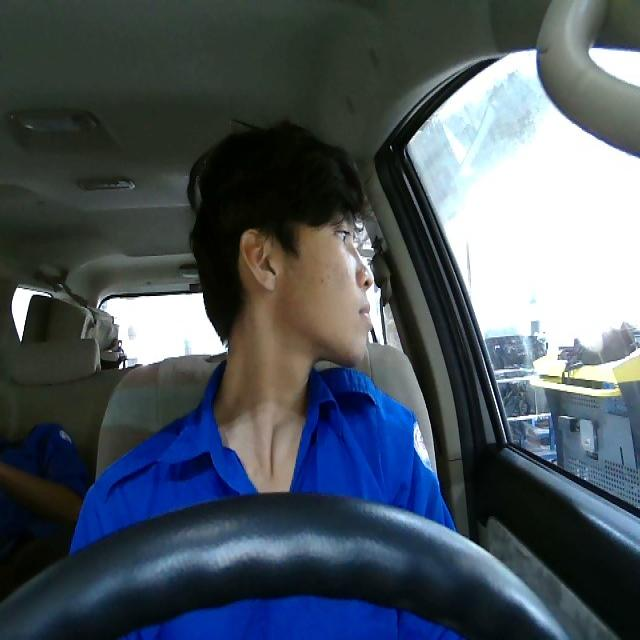seeing_right: (235, 193, 374, 368)
